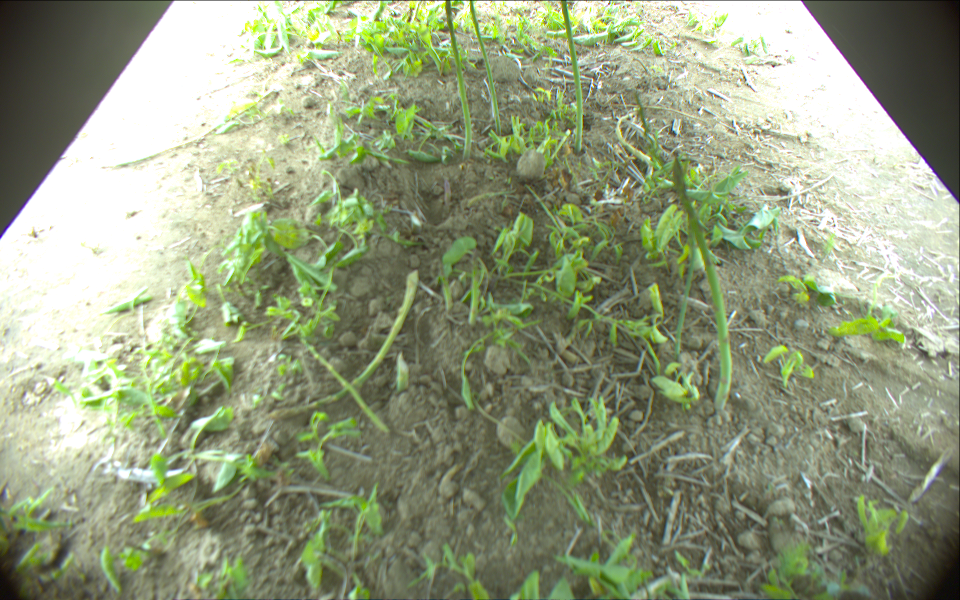aspa: (265, 270, 420, 422), (671, 156, 731, 411), (299, 336, 389, 432), (466, 1, 501, 142), (443, 1, 472, 159), (559, 1, 585, 153), (674, 206, 700, 351), (466, 251, 482, 324), (436, 251, 454, 306), (396, 351, 411, 390)
